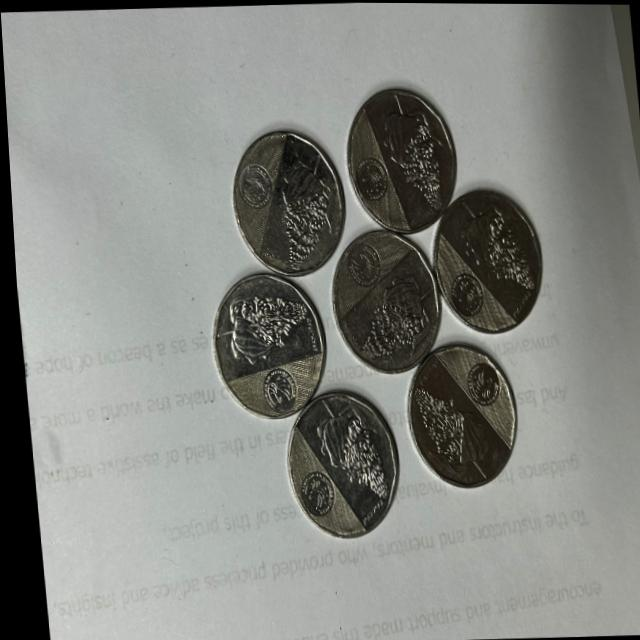10_New_Back: (255, 146, 351, 276), (206, 272, 300, 377), (341, 264, 435, 366), (378, 104, 453, 227), (402, 379, 482, 476), (453, 207, 533, 302), (315, 411, 390, 508)
